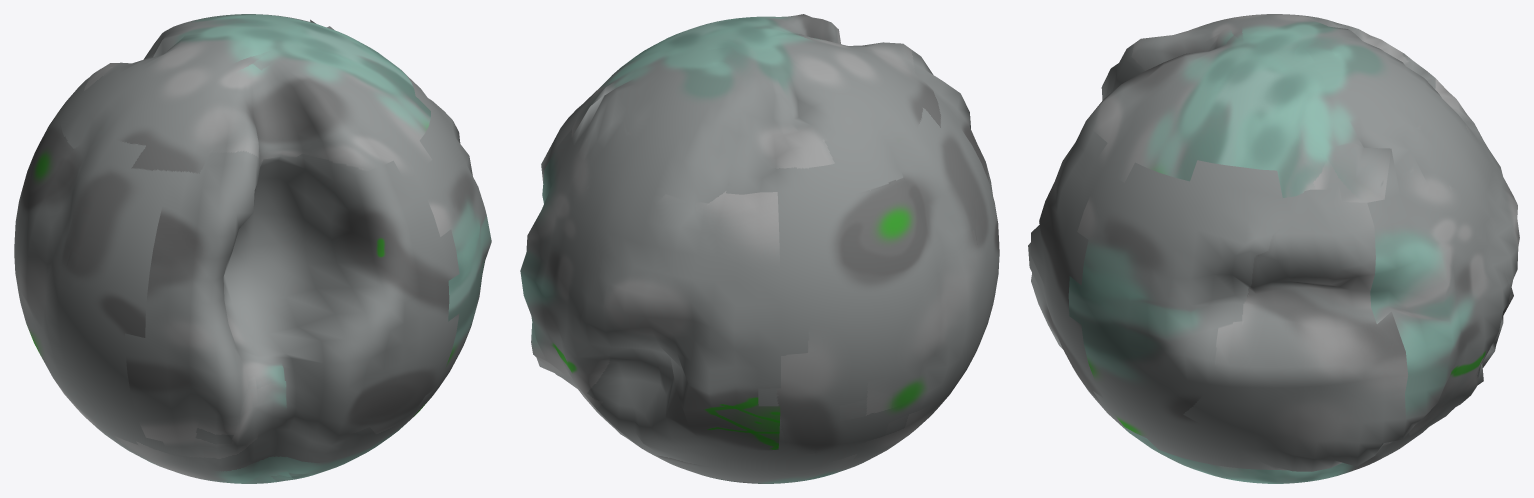
The model's file is Prototype_Lava_planet.fbx.
3 views of the same model, side by side, from view 1: azimuth 30°, elevation 25°; view 2: azimuth 150°, elevation 25°; view 3: azimuth 270°, elevation 25° (orthographic).
Parts seen in each view (by area): view 1: Sphere; view 2: Sphere; view 3: Sphere.
Part boxes in pixels (left/top/right/bottom): Sphere: left=14, top=14, right=491, bottom=483; Sphere: left=520, top=14, right=999, bottom=483; Sphere: left=1028, top=14, right=1519, bottom=483.
Size of the model in its own units: 201 by 200 by 209.
